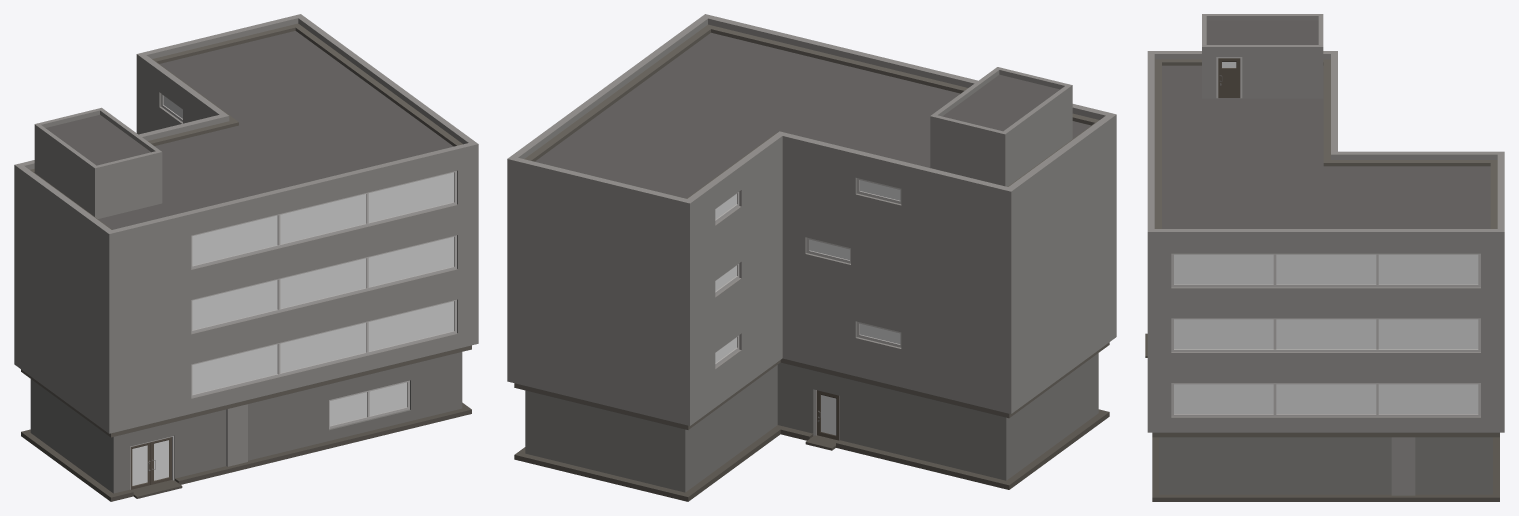
Rendered from SM_Bldg_City_Commercial_05.fbx.
3 renders of one model, left to right at view 1: azimuth 30°, elevation 25°; view 2: azimuth 150°, elevation 25°; view 3: azimuth 270°, elevation 25°, orthographic. The views are drawn at different scales.
Parts seen in each view (by area): view 1: SM_Bldg_City_Commercial_05, SM_Bldg_City_Commercial_05_Glass; view 2: SM_Bldg_City_Commercial_05, SM_Bldg_City_Commercial_05_Glass; view 3: SM_Bldg_City_Commercial_05, SM_Bldg_City_Commercial_05_Glass.
Part boxes in pixels (box(x1,y1,x2,y2)): SM_Bldg_City_Commercial_05: box(14, 14, 478, 501); SM_Bldg_City_Commercial_05_Glass: box(163, 96, 453, 425); SM_Bldg_City_Commercial_05: box(507, 14, 1116, 501); SM_Bldg_City_Commercial_05_Glass: box(715, 180, 900, 362); SM_Bldg_City_Commercial_05: box(1145, 14, 1504, 501); SM_Bldg_City_Commercial_05_Glass: box(1174, 254, 1478, 413).
Size of the model in its own units: 1800 by 1460 by 1510.
